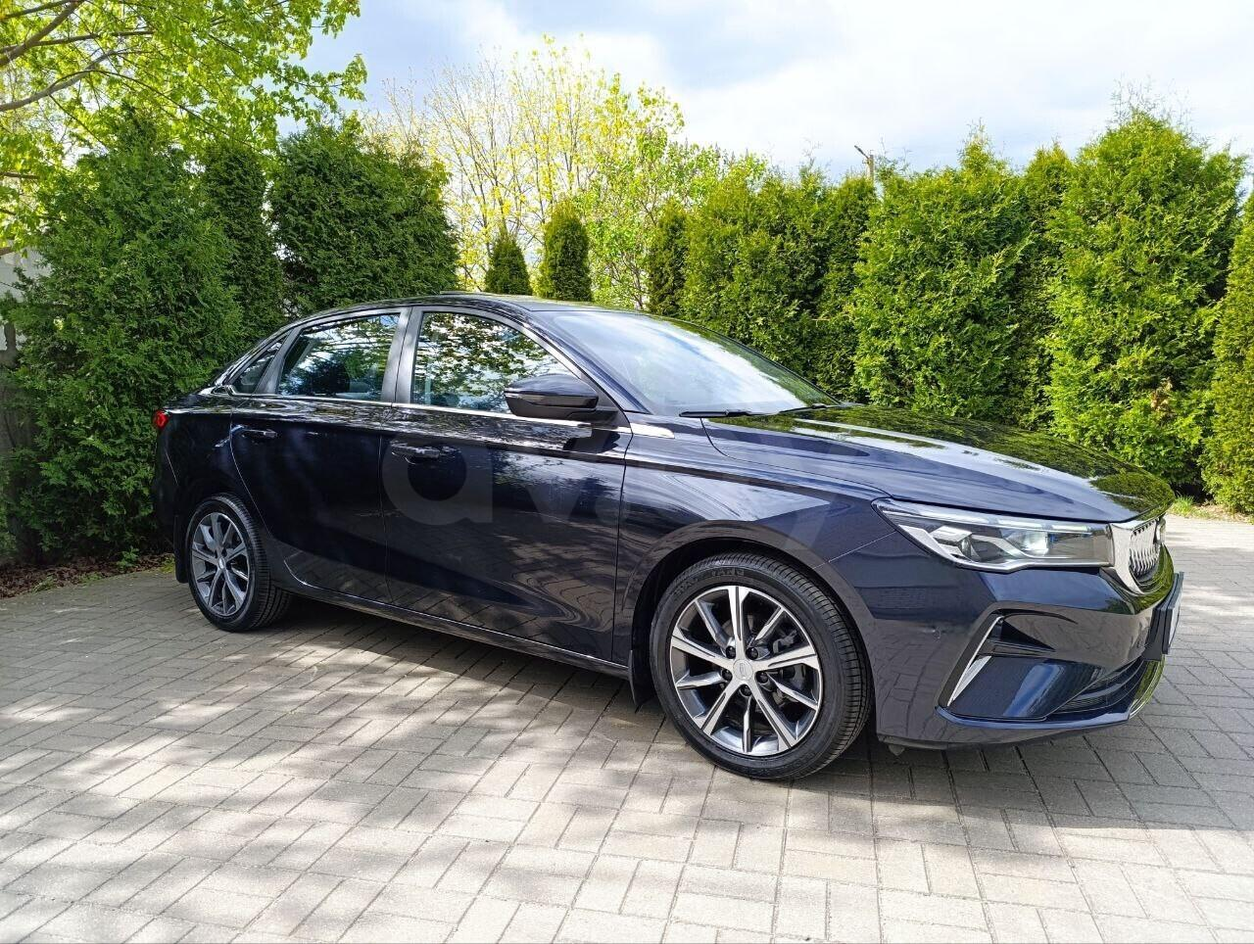Emgrand_2021: (141, 292, 1182, 780)
